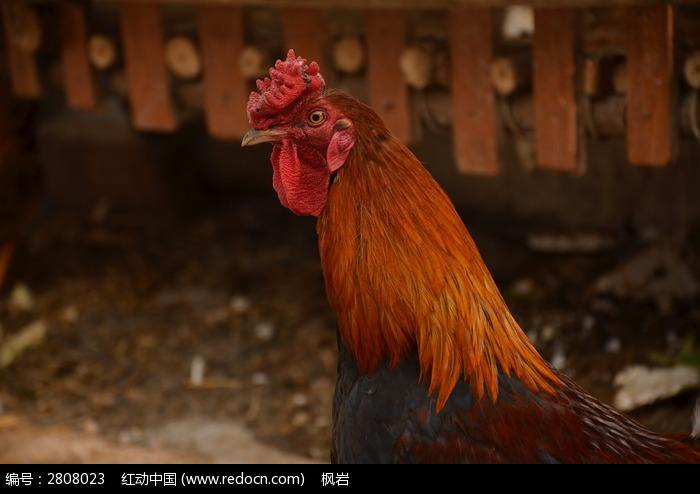chicken: (238, 42, 700, 465)
